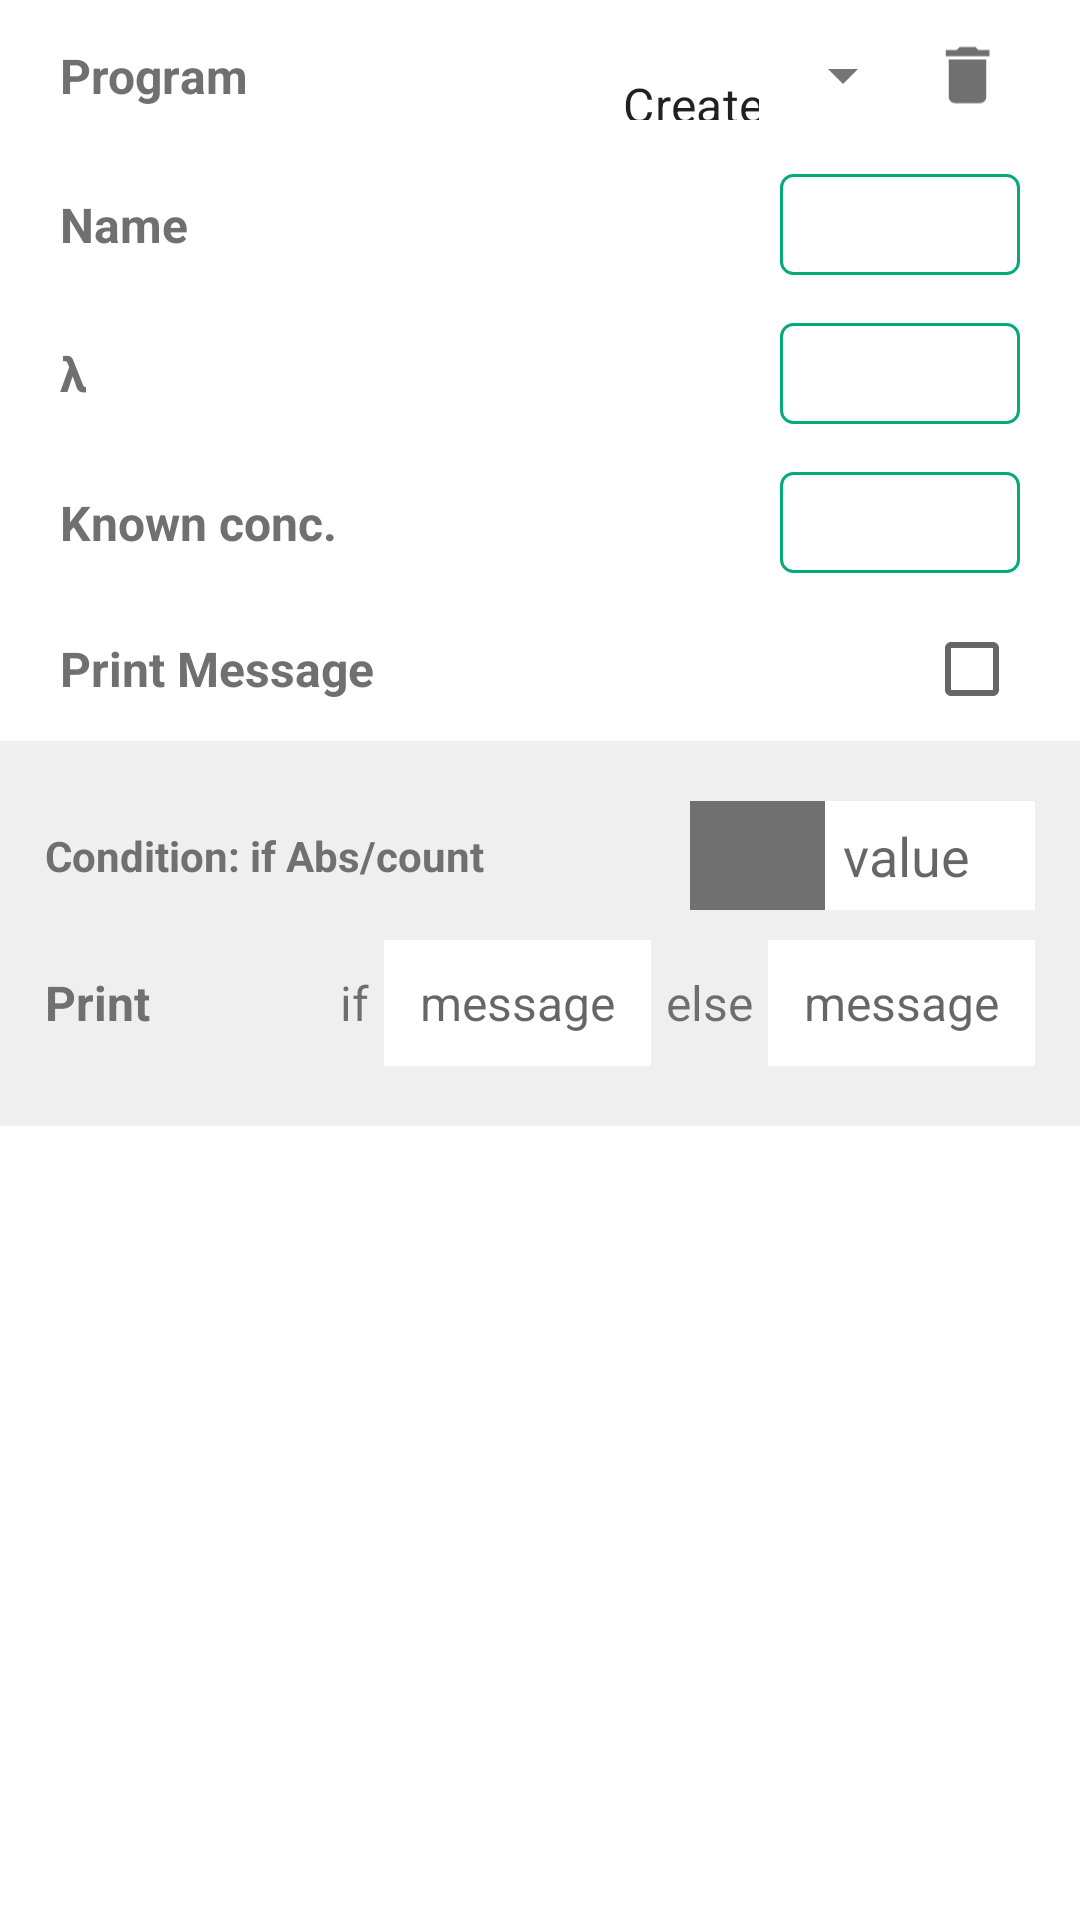

Named icons in this screenshot (1080px×1920px) and their bounding boxes, region(x1, y1, x2, y2):
delete: region(945, 46, 990, 104)
